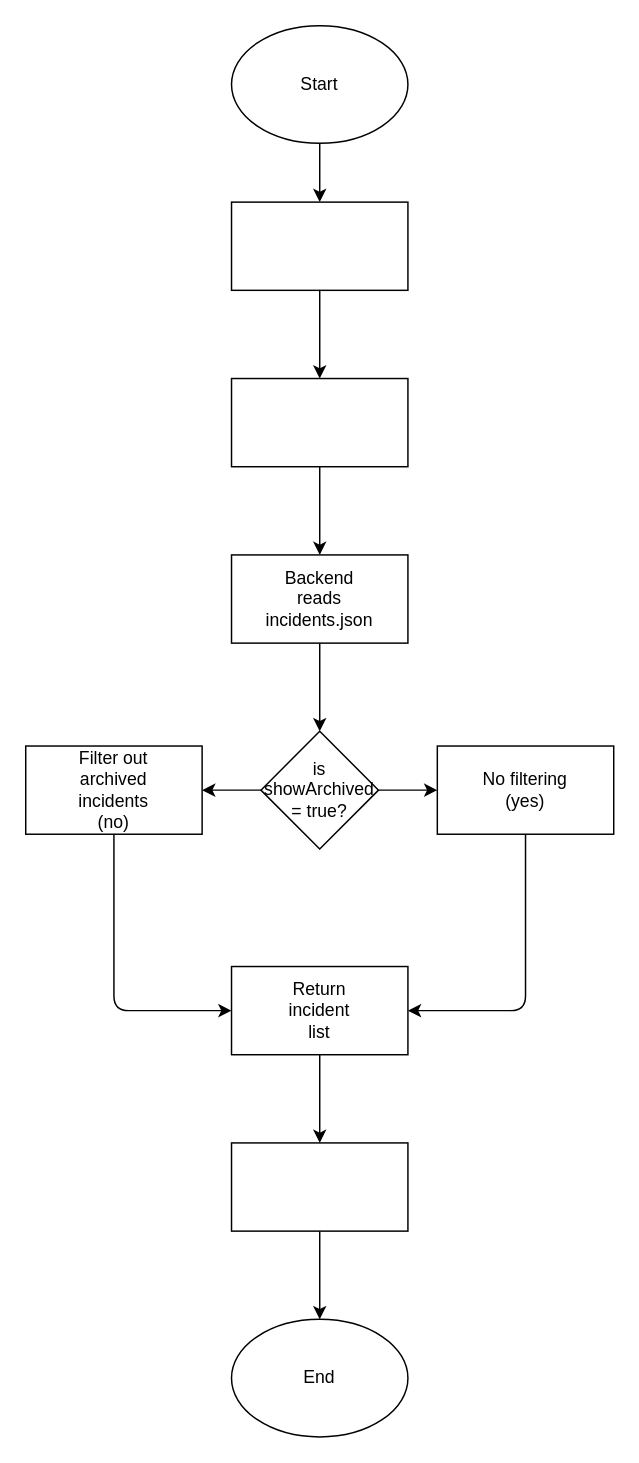
Some shapes in this 639 by 1463 pixel diagram are drawn without their labels. Each missing label, with the centre of its shape:
"Frontend displays list" goes at pixel 319 1186.
"Frontend sends GET" goes at pixel 319 422.
"User opens incidents page" goes at pixel 319 245.
